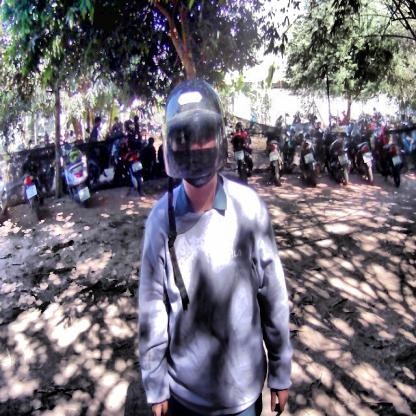wear: (166, 89, 222, 187)
